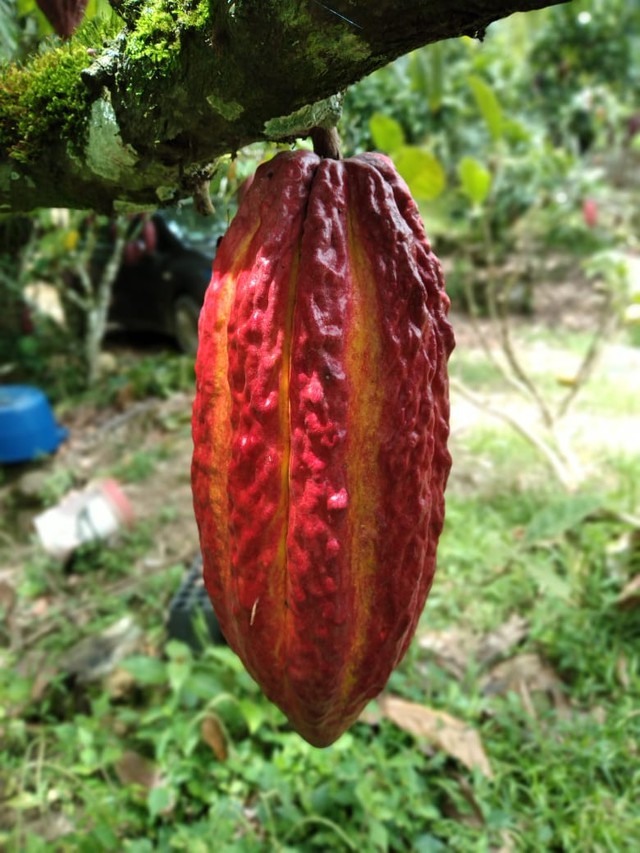Health: (184, 139, 460, 753)
